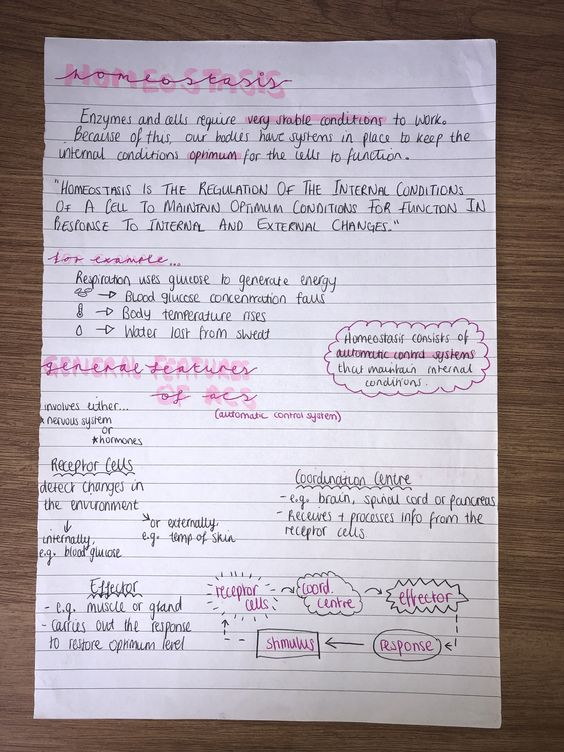page: (39, 38, 497, 724)
